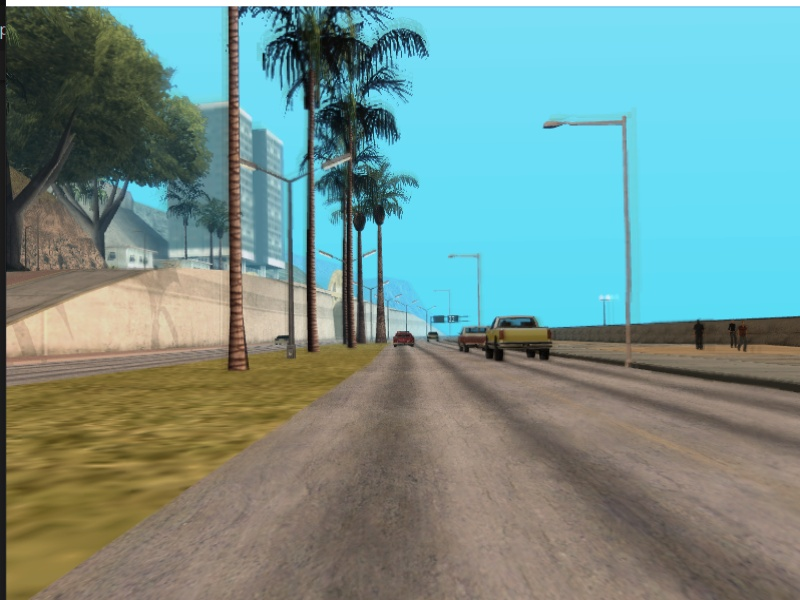person: (690, 319, 708, 351), (724, 317, 738, 352), (740, 323, 750, 354)
pole: (616, 115, 638, 367), (282, 174, 298, 366), (473, 252, 486, 330)
tree: (221, 7, 256, 373), (303, 61, 323, 358), (345, 84, 359, 355)
vehicle: (484, 312, 558, 364), (457, 323, 485, 355), (392, 328, 416, 351), (428, 330, 442, 344)
